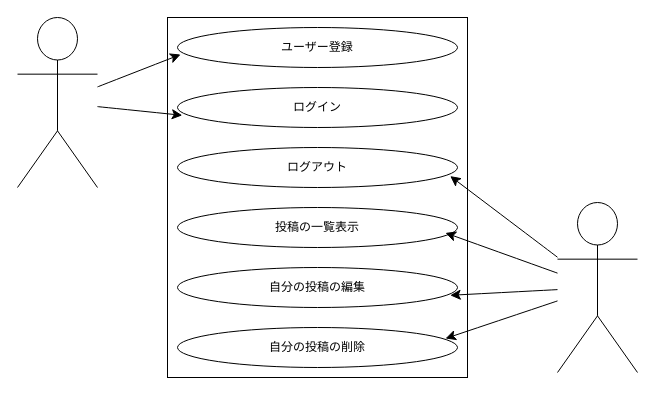
This 669x411 diagram has some shape labels left out. The shapes that lost their labels are listed below. From the top down, each one's centre as x and y in pixels, then its label:
At point 57,102: "訪問者".
At point 597,287: "ログイン済み利用者".
